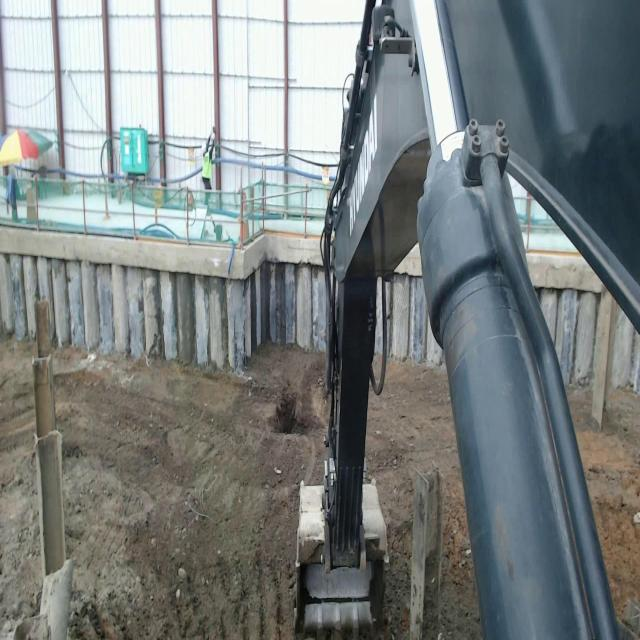red-sand: (55, 345, 327, 639), (367, 363, 479, 639), (569, 389, 640, 617), (0, 340, 40, 628)
